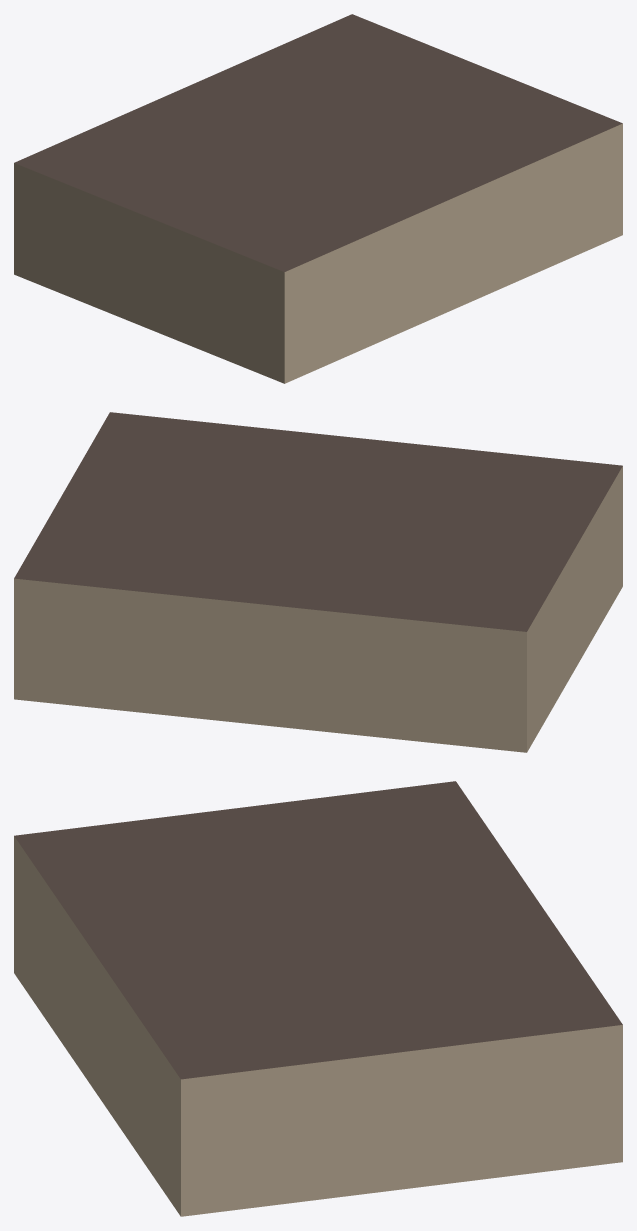
3 views of the same model, one above another, from view 1: azimuth 30°, elevation 25°; view 2: azimuth 150°, elevation 25°; view 3: azimuth 270°, elevation 25° (orthographic). The views are drawn at different scales.
Visible parts, largest first — view 1: HP-w858839014; view 2: HP-w858839014; view 3: HP-w858839014.
Part boxes in pixels (x1,y1,x2,y2): HP-w858839014: (14,14,622,383); HP-w858839014: (14,412,622,752); HP-w858839014: (14,781,622,1216).
Bounding box in the file's own units: 41.93 × 9 × 36.17.
